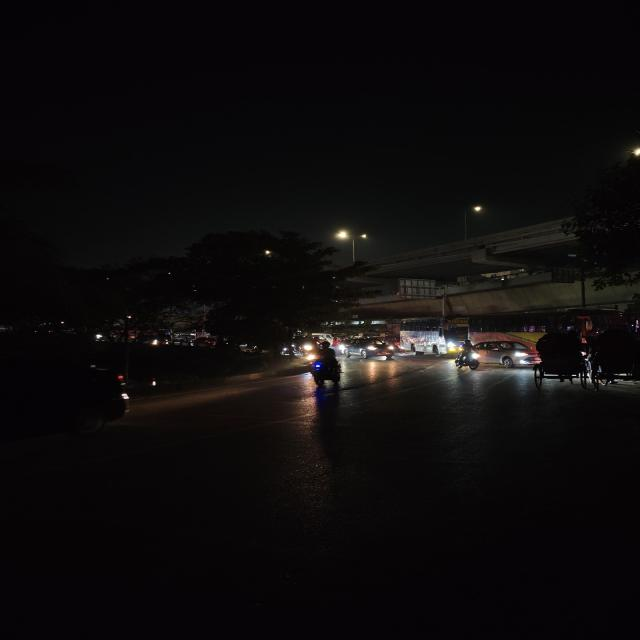bus: (399, 318, 444, 354)
car: (458, 338, 541, 370), (345, 337, 398, 361)
motorcycle: (302, 341, 348, 395), (452, 342, 484, 372)
rickshaw: (587, 327, 640, 391), (530, 332, 593, 384)
